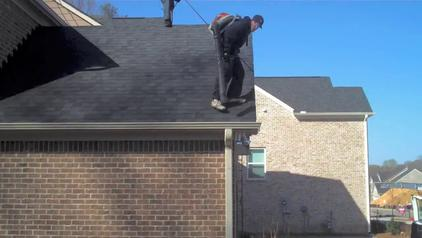stay: (205, 2, 264, 104)
